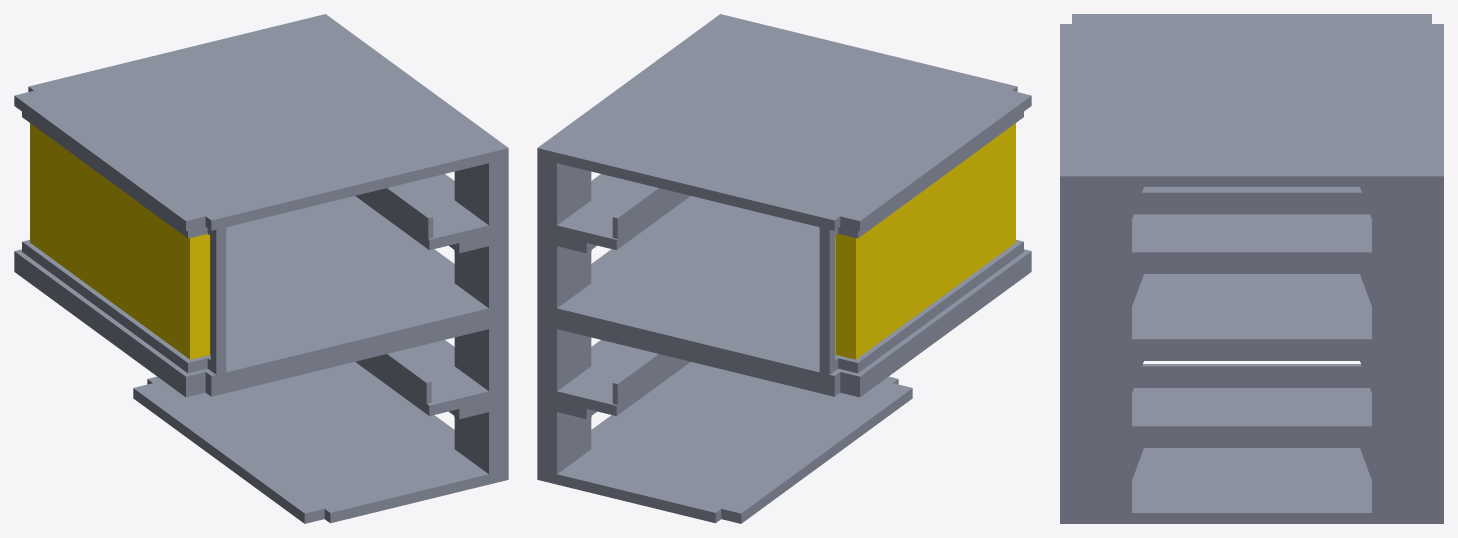
The model's file is building_bldg-length_v01.gltf.
The picture shows the model from 3 angles, left to right: view 1: azimuth 30°, elevation 25°; view 2: azimuth 150°, elevation 25°; view 3: azimuth 270°, elevation 25°; orthographic projection. The views are drawn at different scales.
Parts seen in each view (by area): view 1: massing, window, frame; view 2: massing, window, frame; view 3: massing.
Part boxes in pixels (x1,y1,x2,y2): massing: (14, 14, 508, 523); window: (30, 123, 210, 359); frame: (22, 112, 226, 374); massing: (537, 14, 1031, 523); window: (835, 123, 1015, 359); frame: (819, 112, 1023, 374); massing: (1060, 14, 1443, 523).
Size of what is drawn, in the model's own units: 16 by 16 by 16.
